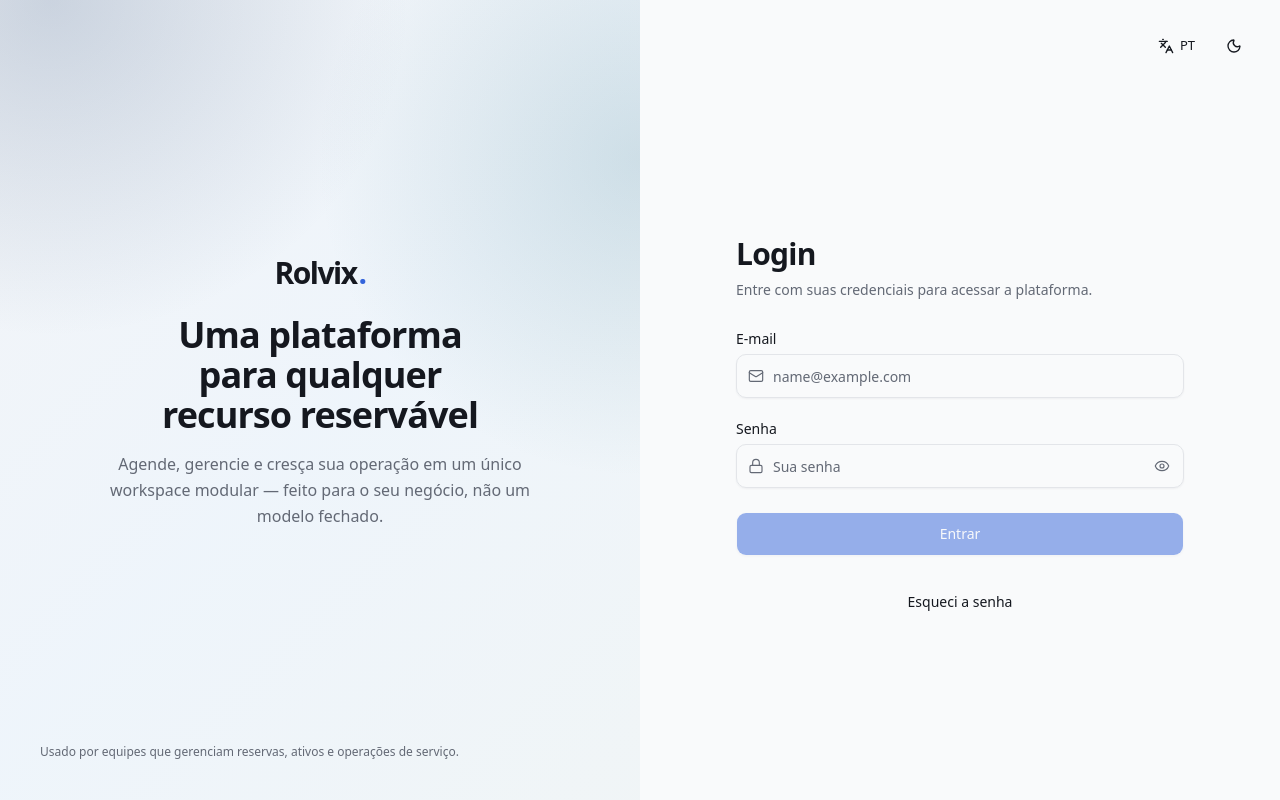
LoginPage validity gate › shows the localized rate-limit message for staff login 429s
The image size is (1280, 800).
Type "admin@rolvix.test" into the field labelled "E-mail" at (960, 376), box x1=736 y1=354 x2=1184 y2=398
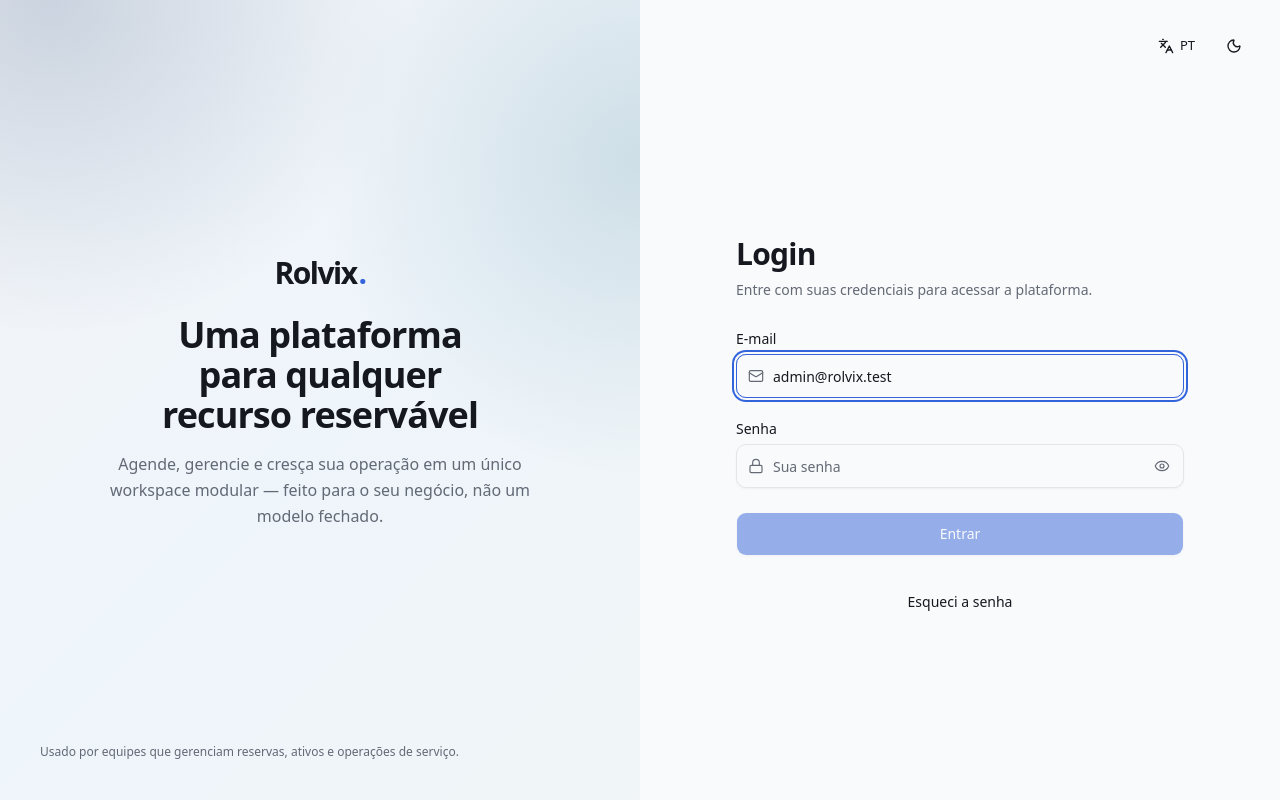
Type "password1" into the password field labelled "Senha" at (960, 466), box x1=736 y1=444 x2=1184 y2=488
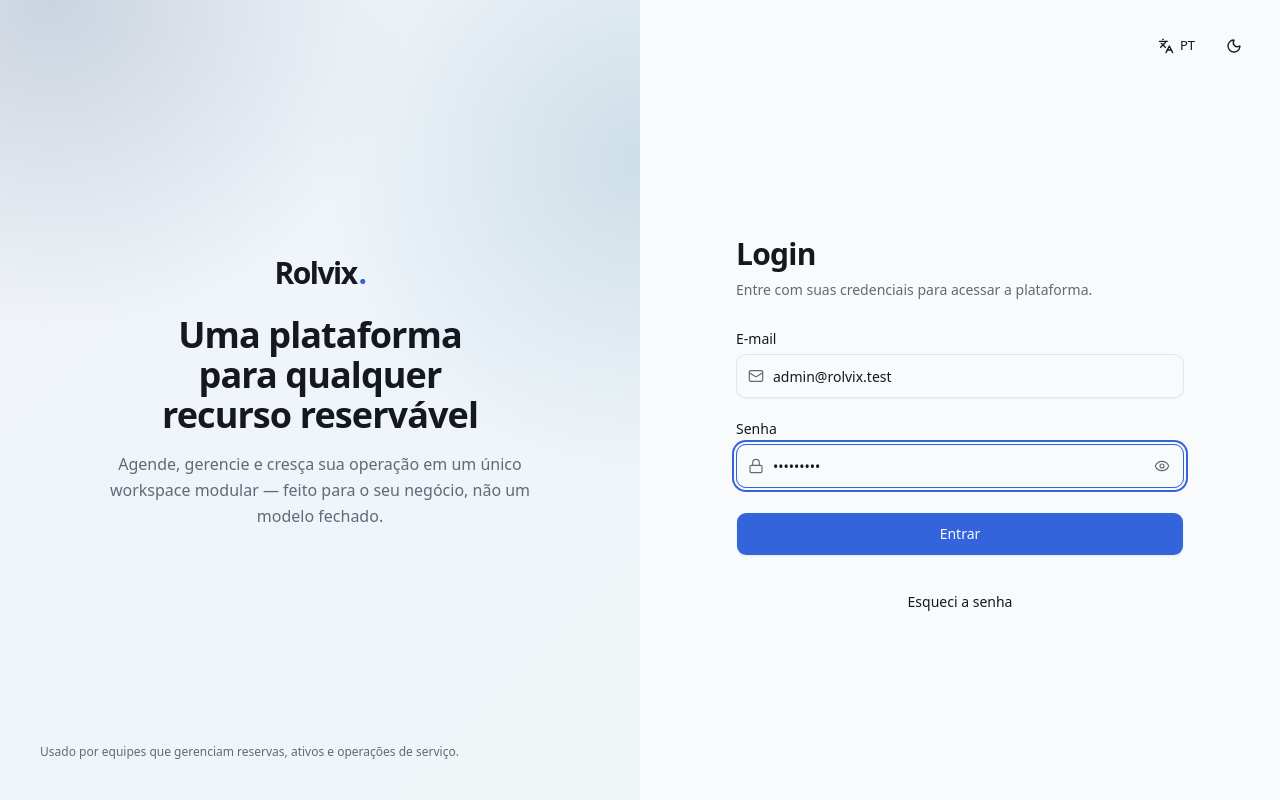
Click the button "Entrar" at (960, 534), box x1=736 y1=512 x2=1184 y2=556
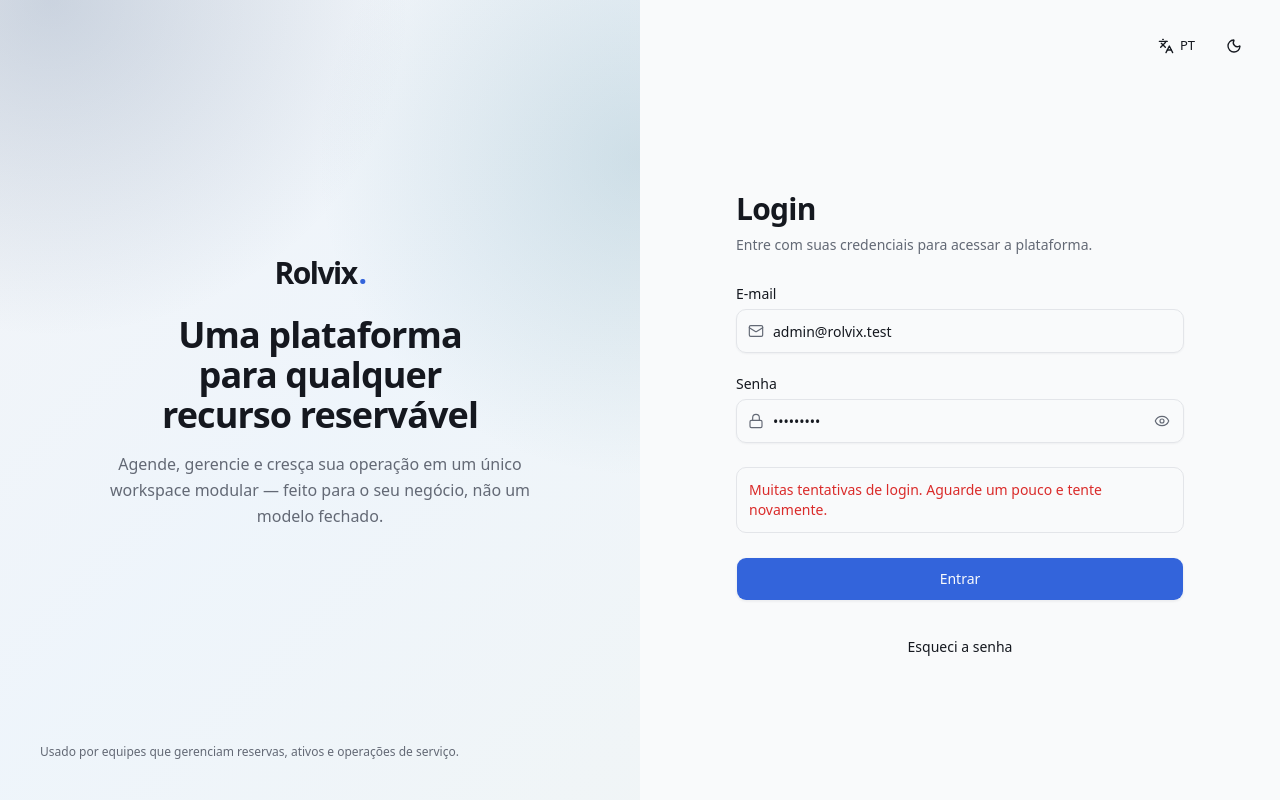
Expected: the button "Entrar" is enabled, x1=736 y1=557 x2=1184 y2=601
Expected: the message reads "Muitas tentativas de login. Aguarde um pouco e tente novamente.", x1=749 y1=480 x2=1102 y2=519
